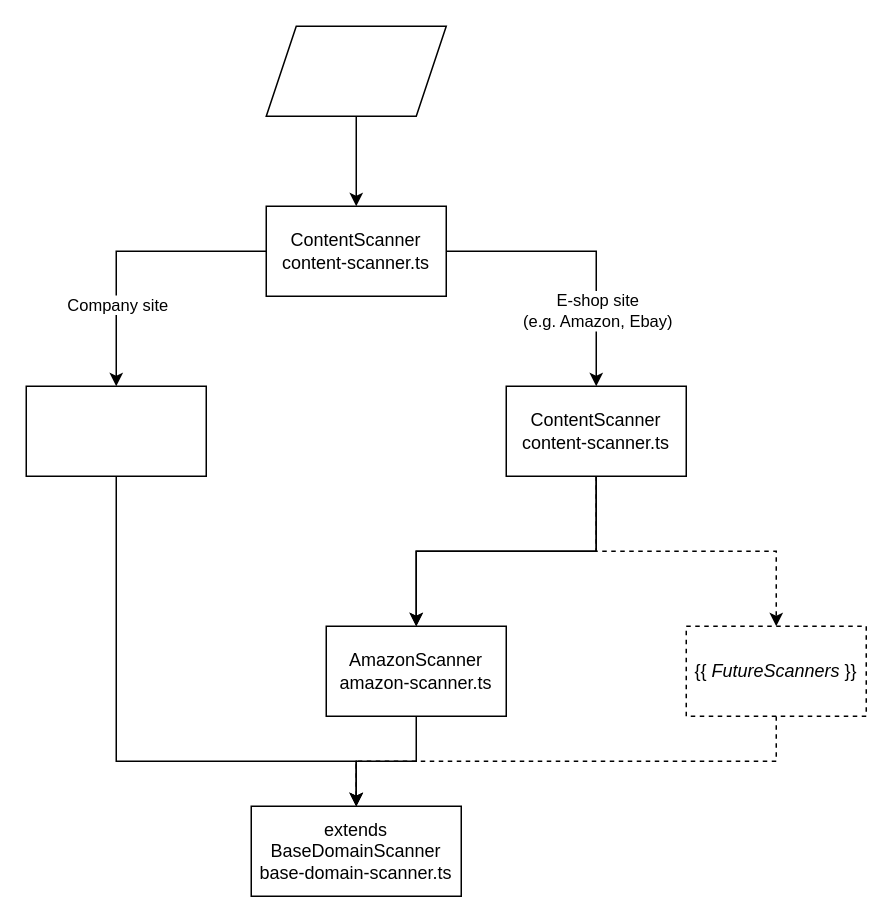
Image size: 893x923. Some labels were removed from this diagram. Here are the shapes that lost their labels. From the top down, the centre of each, then its label:
At (355,70): "User visits site".
At (115,430): "DefaultScanner default-scanner.ts".
